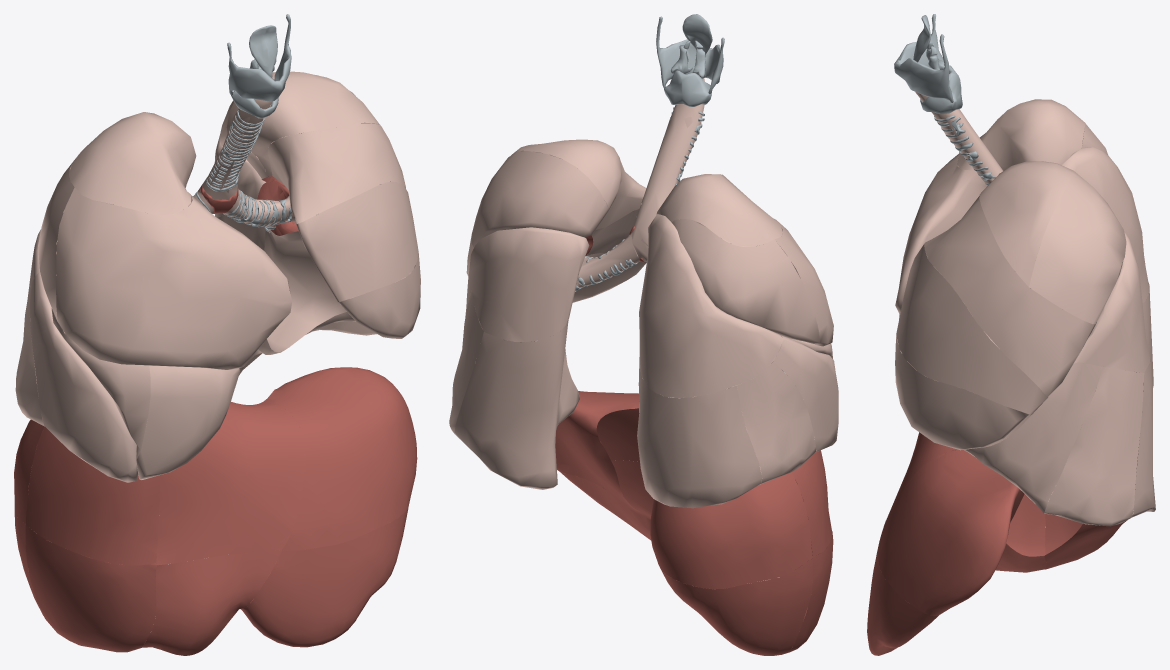
Rendered from adult_female.respiratory.LOD2.glb.
The picture shows the model from 3 angles, left to right: view 1: azimuth 30°, elevation 25°; view 2: azimuth 150°, elevation 25°; view 3: azimuth 270°, elevation 25°; orthographic projection. The views are drawn at different scales.
Parts seen in each view (by area): view 1: ADULT.FEMALE.RESPIRATORY.ANTERIOR_BRONCHOPULMONARY_SEGM.R, ADULT.FEMALE.RESPIRATORY.SUPEROMEDIAL_SEGMENT.L, ADULT.FEMALE.RESPIRATORY.SUPEROMEDIAL_SEGMENT1.L, ADULT.FEMALE.RESPIRATORY.ANTEROSUPERIOR_SEGMENT.R, ADULT.FEMALE.RESPIRATORY.ANTEROLATERAL_SEGMENT.L, ADULT.FEMALE.RESPIRATORY.ANTEROINFERIOR_SEGMENT.R, ADULT.FEMALE.RESPIRATORY.ANTERIOR_BASAL_BRONCHOPULMONARY_SEG, ADULT.FEMALE.RESPIRATORY.LINGULA_SUPERIOR_BRONCHOPULMONARY_S, ADULT.FEMALE.RESPIRATORY.APICAL_BRONCHOPULMONARY_SEGMENT.R, ADULT.FEMALE.RESPIRATORY.ANTERIOR_BRONCHOPULMONARY_SEGMENT.L, ADULT.FEMALE.RESPIRATORY.INFEROMEDIAL_SEGMENT.L, ADULT.FEMALE.RESPIRATORY.MEDIAL_BRONCHOPULMONARY_SEGMENT.R (+17 smaller); view 2: ADULT.FEMALE.RESPIRATORY.POSTERIOR_BASAL_BRONCHOPULMONARY_SE (×2), ADULT.FEMALE.RESPIRATORY.POSTERIOR_BRONCHOPULMONARY_SEGMENT. (×2), ADULT.FEMALE.RESPIRATORY.SUPERIOR_BRONCHOPULMONARY_SEGMENT.R, ADULT.FEMALE.RESPIRATORY.POSTEROSUPERIOR_SEGMENT.R, ADULT.FEMALE.RESPIRATORY.SUPERIOR_BRONCHOPULMONARY_SEGMENT.L, ADULT.FEMALE.RESPIRATORY.LATERAL_BASAL_BRONCHOPULMONARY_SEGM (×2), ADULT.FEMALE.RESPIRATORY.POSTEROINFERIOR_SEGMENT.R, ADULT.FEMALE.RESPIRATORY.SUPEROMEDIAL_SEGMENT.L, ADULT.FEMALE.RESPIRATORY.APICAL_BRONCHOPULMONARY_SEGMENT.R, ADULT.FEMALE.RESPIRATORY.ANTERIOR_BASAL_BRONCHOPULMONARY_SEG, ADULT.FEMALE.RESPIRATORY.TRACHEA, ADULT.FEMALE.RESPIRATORY.ANTEROLATERAL_SEGMENT.L (+11 smaller); view 3: ADULT.FEMALE.RESPIRATORY.SUPEROMEDIAL_SEGMENT.L, ADULT.FEMALE.RESPIRATORY.ANTERIOR_BRONCHOPULMONARY_SEGMENT.L, ADULT.FEMALE.RESPIRATORY.LINGULA_SUPERIOR_BRONCHOPULMONARY_S, ADULT.FEMALE.RESPIRATORY.LATERAL_BASAL_BRONCHOPULMONARY_SEGM, ADULT.FEMALE.RESPIRATORY.POSTERIOR_BRONCHOPULMONARY_SEGMENT., ADULT.FEMALE.RESPIRATORY.ANTERIOR_BASAL_BRONCHOPULMONARY_SEG, ADULT.FEMALE.RESPIRATORY.LINGULA_INFERIOR_BRONCHOPULMONARY_S, ADULT.FEMALE.RESPIRATORY.APICAL_BRONCHOPULMONARY_SEGMENT.L, ADULT.FEMALE.RESPIRATORY.APICAL_BRONCHOPULMONARY_SEGMENT.R, ADULT.FEMALE.RESPIRATORY.SUPERIOR_BRONCHOPULMONARY_SEGMENT.L, ADULT.FEMALE.RESPIRATORY.ANTERIOR_BRONCHOPULMONARY_SEGM.R, ADULT.FEMALE.RESPIRATORY.SUPERIOR_BRONCHOPULMONARY_SEGMENT.R (+10 smaller).
Part boxes in pixels (box(x1,y1,x2,y2)): ADULT.FEMALE.RESPIRATORY.ANTERIOR_BRONCHOPULMONARY_SEGM.R: box(56, 187, 292, 369); ADULT.FEMALE.RESPIRATORY.SUPEROMEDIAL_SEGMENT.L: box(268, 367, 417, 550); ADULT.FEMALE.RESPIRATORY.SUPEROMEDIAL_SEGMENT1.L: box(156, 398, 306, 565); ADULT.FEMALE.RESPIRATORY.ANTEROSUPERIOR_SEGMENT.R: box(25, 427, 160, 565); ADULT.FEMALE.RESPIRATORY.ANTEROLATERAL_SEGMENT.L: box(240, 509, 408, 647); ADULT.FEMALE.RESPIRATORY.ANTEROINFERIOR_SEGMENT.R: box(25, 524, 157, 652); ADULT.FEMALE.RESPIRATORY.ANTERIOR_BASAL_BRONCHOPULMONARY_SEG: box(29, 273, 138, 482); ADULT.FEMALE.RESPIRATORY.LINGULA_SUPERIOR_BRONCHOPULMONARY_S: box(295, 181, 418, 302); ADULT.FEMALE.RESPIRATORY.APICAL_BRONCHOPULMONARY_SEGMENT.R: box(69, 112, 196, 215); ADULT.FEMALE.RESPIRATORY.ANTERIOR_BRONCHOPULMONARY_SEGMENT.L: box(268, 123, 405, 223); ADULT.FEMALE.RESPIRATORY.INFEROMEDIAL_SEGMENT.L: box(142, 550, 281, 655); ADULT.FEMALE.RESPIRATORY.MEDIAL_BRONCHOPULMONARY_SEGMENT.R: box(136, 365, 239, 479); ADULT.FEMALE.RESPIRATORY.POSTERIOR_BASAL_BRONCHOPULMONARY_SE (×2): box(454, 320, 761, 508); ADULT.FEMALE.RESPIRATORY.POSTERIOR_BRONCHOPULMONARY_SEGMENT. (×2): box(471, 151, 819, 343); ADULT.FEMALE.RESPIRATORY.SUPERIOR_BRONCHOPULMONARY_SEGMENT.R: box(639, 214, 783, 397); ADULT.FEMALE.RESPIRATORY.POSTEROSUPERIOR_SEGMENT.R: box(650, 472, 812, 589); ADULT.FEMALE.RESPIRATORY.SUPERIOR_BRONCHOPULMONARY_SEGMENT.L: box(469, 227, 589, 342); ADULT.FEMALE.RESPIRATORY.LATERAL_BASAL_BRONCHOPULMONARY_SEGM (×2): box(449, 291, 815, 484); ADULT.FEMALE.RESPIRATORY.POSTEROINFERIOR_SEGMENT.R: box(660, 558, 812, 655); ADULT.FEMALE.RESPIRATORY.SUPEROMEDIAL_SEGMENT.L: box(555, 391, 639, 507); ADULT.FEMALE.RESPIRATORY.APICAL_BRONCHOPULMONARY_SEGMENT.R: box(656, 174, 783, 246); ADULT.FEMALE.RESPIRATORY.ANTERIOR_BASAL_BRONCHOPULMONARY_SEG: box(735, 335, 838, 452); ADULT.FEMALE.RESPIRATORY.TRACHEA: box(632, 78, 704, 261); ADULT.FEMALE.RESPIRATORY.ANTEROLATERAL_SEGMENT.L: box(559, 460, 653, 540); ADULT.FEMALE.RESPIRATORY.SUPEROMEDIAL_SEGMENT.L: box(878, 449, 1024, 615); ADULT.FEMALE.RESPIRATORY.ANTERIOR_BRONCHOPULMONARY_SEGMENT.L: box(924, 196, 1096, 396); ADULT.FEMALE.RESPIRATORY.LINGULA_SUPERIOR_BRONCHOPULMONARY_S: box(896, 244, 1048, 415); ADULT.FEMALE.RESPIRATORY.LATERAL_BASAL_BRONCHOPULMONARY_SEGM: box(1044, 367, 1144, 526); ADULT.FEMALE.RESPIRATORY.POSTERIOR_BRONCHOPULMONARY_SEGMENT.: box(1029, 171, 1126, 324); ADULT.FEMALE.RESPIRATORY.ANTERIOR_BASAL_BRONCHOPULMONARY_SEG: box(964, 362, 1103, 513); ADULT.FEMALE.RESPIRATORY.LINGULA_INFERIOR_BRONCHOPULMONARY_S: box(895, 331, 1030, 450); ADULT.FEMALE.RESPIRATORY.APICAL_BRONCHOPULMONARY_SEGMENT.L: box(979, 161, 1073, 286); ADULT.FEMALE.RESPIRATORY.APICAL_BRONCHOPULMONARY_SEGMENT.R: box(957, 99, 1085, 170); ADULT.FEMALE.RESPIRATORY.SUPERIOR_BRONCHOPULMONARY_SEGMENT.L: box(1073, 232, 1150, 372); ADULT.FEMALE.RESPIRATORY.ANTERIOR_BRONCHOPULMONARY_SEGM.R: box(895, 153, 986, 314); ADULT.FEMALE.RESPIRATORY.SUPERIOR_BRONCHOPULMONARY_SEGMENT.R: box(1062, 147, 1149, 302).
Bounding box in the file's own units: 0.2554 × 0.4013 × 0.169.
